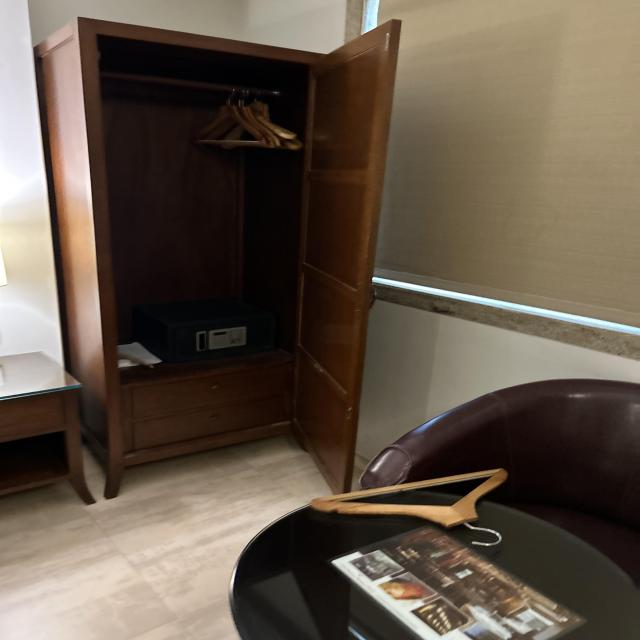mess: (220, 487, 640, 640)
